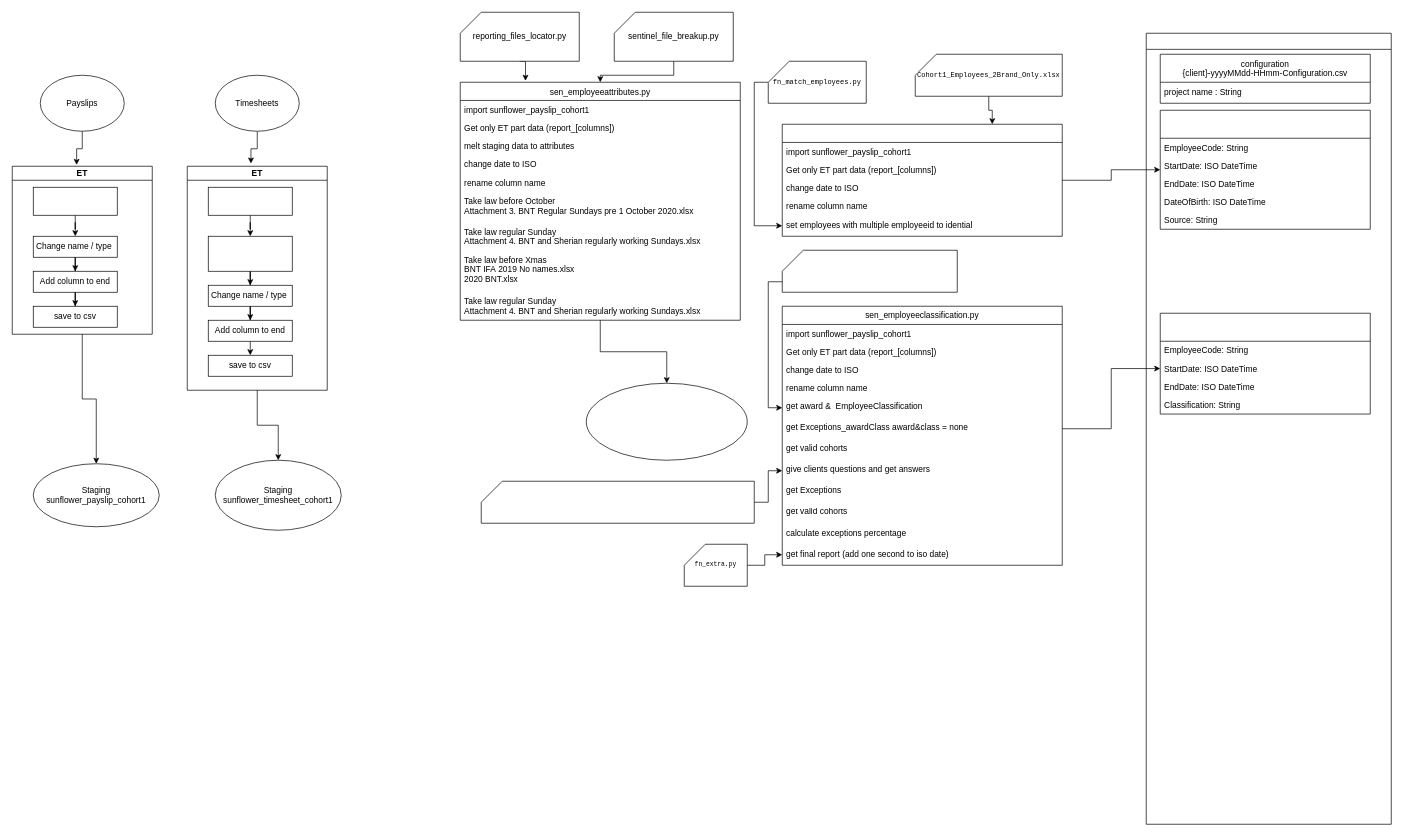
Some shapes in this 1404 by 837 pixel diagram are drawn without their labels. The box of each missing label's shape, as (x1, y1, x2, y2) in pixels:
drop unused column / reshape unidentical column: (208, 236, 292, 271)
Employee Base File {client}-yyyyMMdd-HHmm-EmployeeBase.csv: (1160, 110, 1370, 229)
Employee Classifications {client}-yyyyMMdd-HHmm-EmployeeClassification.csv: (1160, 313, 1370, 414)
Exceptions EmployeeAttributesOverTime.csv: (586, 383, 747, 460)
FINAL Cohort1_Exceptions 20 8 21 (1).xlsx sheet 7 PaySlip_AwardClassifications: (782, 250, 957, 292)
Final Report: (1146, 33, 1391, 824)
Import - import_payslips.py: (33, 187, 117, 215)
Import - import_timesheet.py: (208, 187, 292, 215)
Privileged_Sunflower_Cohort1_Data import queries_20210903 (RESPONSES).xlsx: (481, 481, 754, 523)
sen_employeebase.py: (782, 124, 1062, 236)
